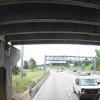Car: (71, 71, 99, 99)
